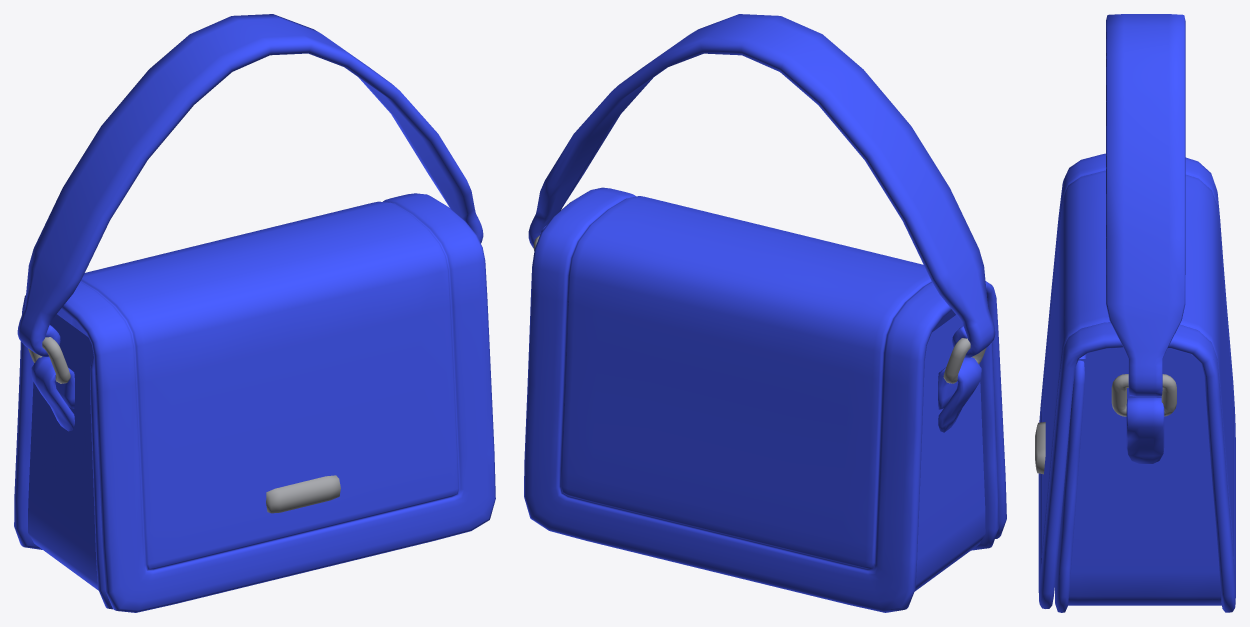
Rendered from handbag.fbx.
3 renders of one model, left to right at view 1: azimuth 30°, elevation 25°; view 2: azimuth 150°, elevation 25°; view 3: azimuth 270°, elevation 25°, orthographic.
Parts seen in each view (by area): view 1: Handbag; view 2: Handbag; view 3: Handbag.
Part boxes in pixels (x1,y1,x2,y2): Handbag: (14, 14, 495, 612); Handbag: (524, 14, 1006, 612); Handbag: (1035, 14, 1235, 612).
Size of the model in its own units: 24.84 by 26.89 by 9.69.
